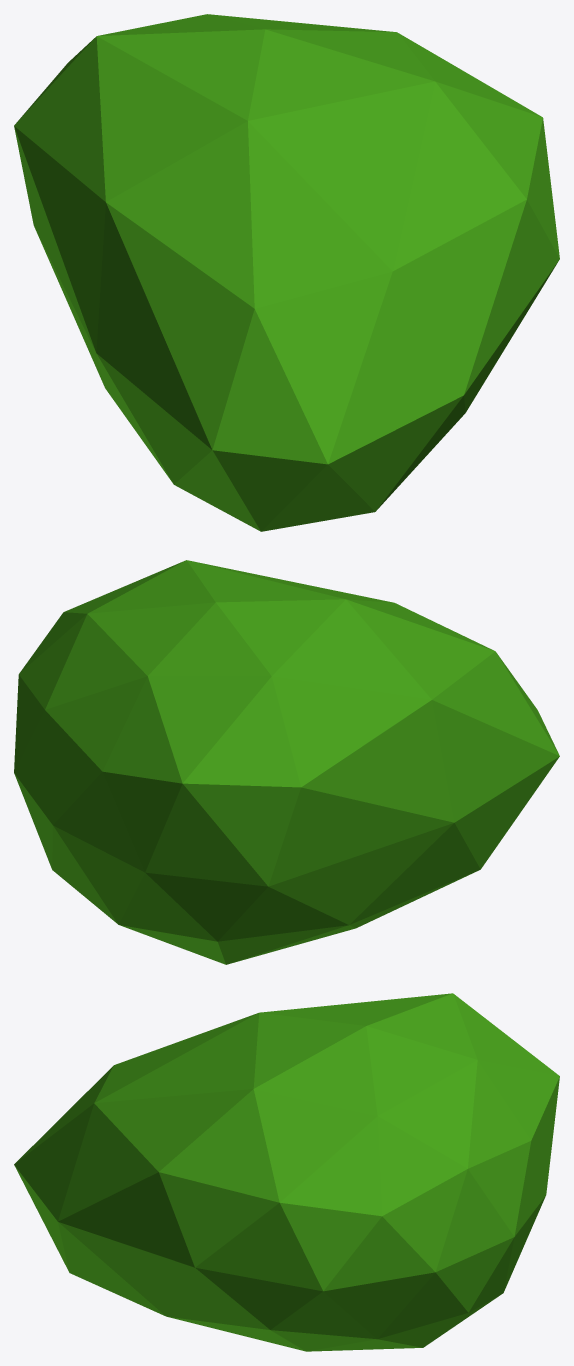
The model's file is Bush03.fbx.
The picture shows the model from 3 angles, top to bottom: view 1: azimuth 30°, elevation 25°; view 2: azimuth 150°, elevation 25°; view 3: azimuth 270°, elevation 25°; orthographic projection. The views are drawn at different scales.
Visible parts, largest first — view 1: Bush03; view 2: Bush03; view 3: Bush03.
Boxes of the visible parts, x1=… form: Bush03: x1=14, y1=14, x2=559, y2=531; Bush03: x1=14, y1=560, x2=559, y2=964; Bush03: x1=14, y1=993, x2=559, y2=1351.
Bounding box in the file's own units: 253 × 203 × 318.
